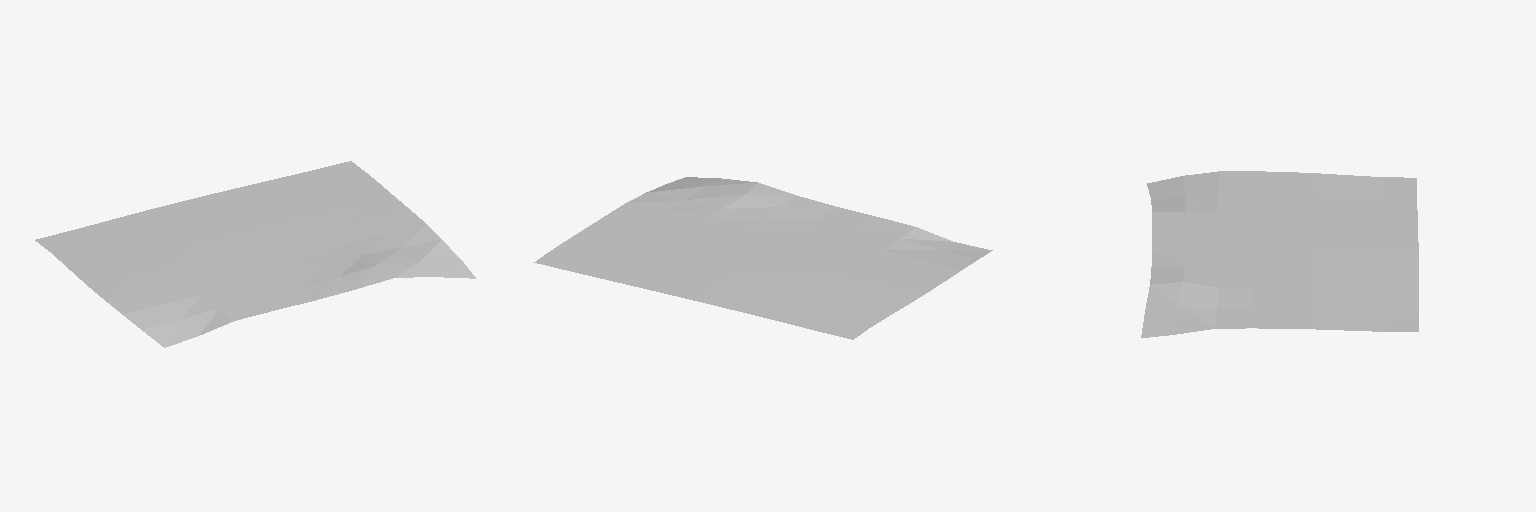
The model's file is picture.obj.
The picture shows the model from 3 angles: view 1: azimuth 30°, elevation 25°; view 2: azimuth 150°, elevation 25°; view 3: azimuth 270°, elevation 25°; orthographic projection.
Parts seen in each view (by area): view 1: Plane.021; view 2: Plane.021; view 3: Plane.021.
Boxes of the visible parts, box(x1,y1,x2,y2) form: Plane.021: box(35, 161, 475, 347); Plane.021: box(534, 177, 992, 339); Plane.021: box(1141, 171, 1418, 337).
Size of the model in its own units: 1.51 by 0.0768 by 1.11.